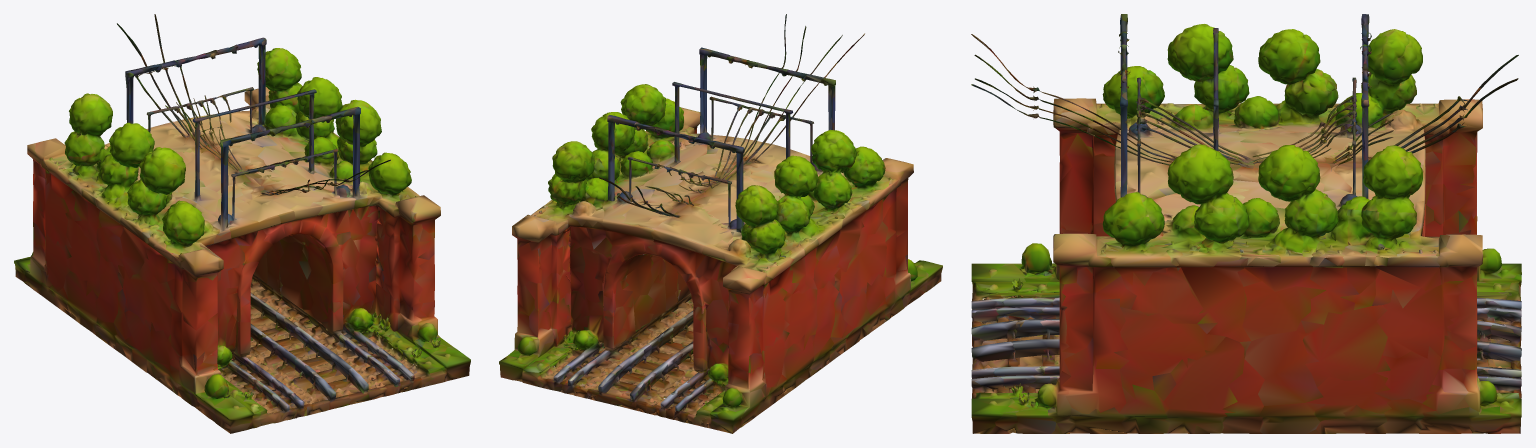
The model's file is Tunnel.mobile.glb.
The picture shows the model from 3 angles, left to right: view 1: azimuth 30°, elevation 25°; view 2: azimuth 150°, elevation 25°; view 3: azimuth 270°, elevation 25°; orthographic projection. The views are drawn at different scales.
Parts seen in each view (by area): view 1: Tunnel_003; view 2: Tunnel_003; view 3: Tunnel_003.
Part boxes in pixels (left/top/right/bottom): Tunnel_003: left=14, top=14, right=470, bottom=433; Tunnel_003: left=499, top=14, right=942, bottom=433; Tunnel_003: left=971, top=14, right=1521, bottom=433.
Size of the model in its own units: 1.26 by 1.15 by 1.9.
